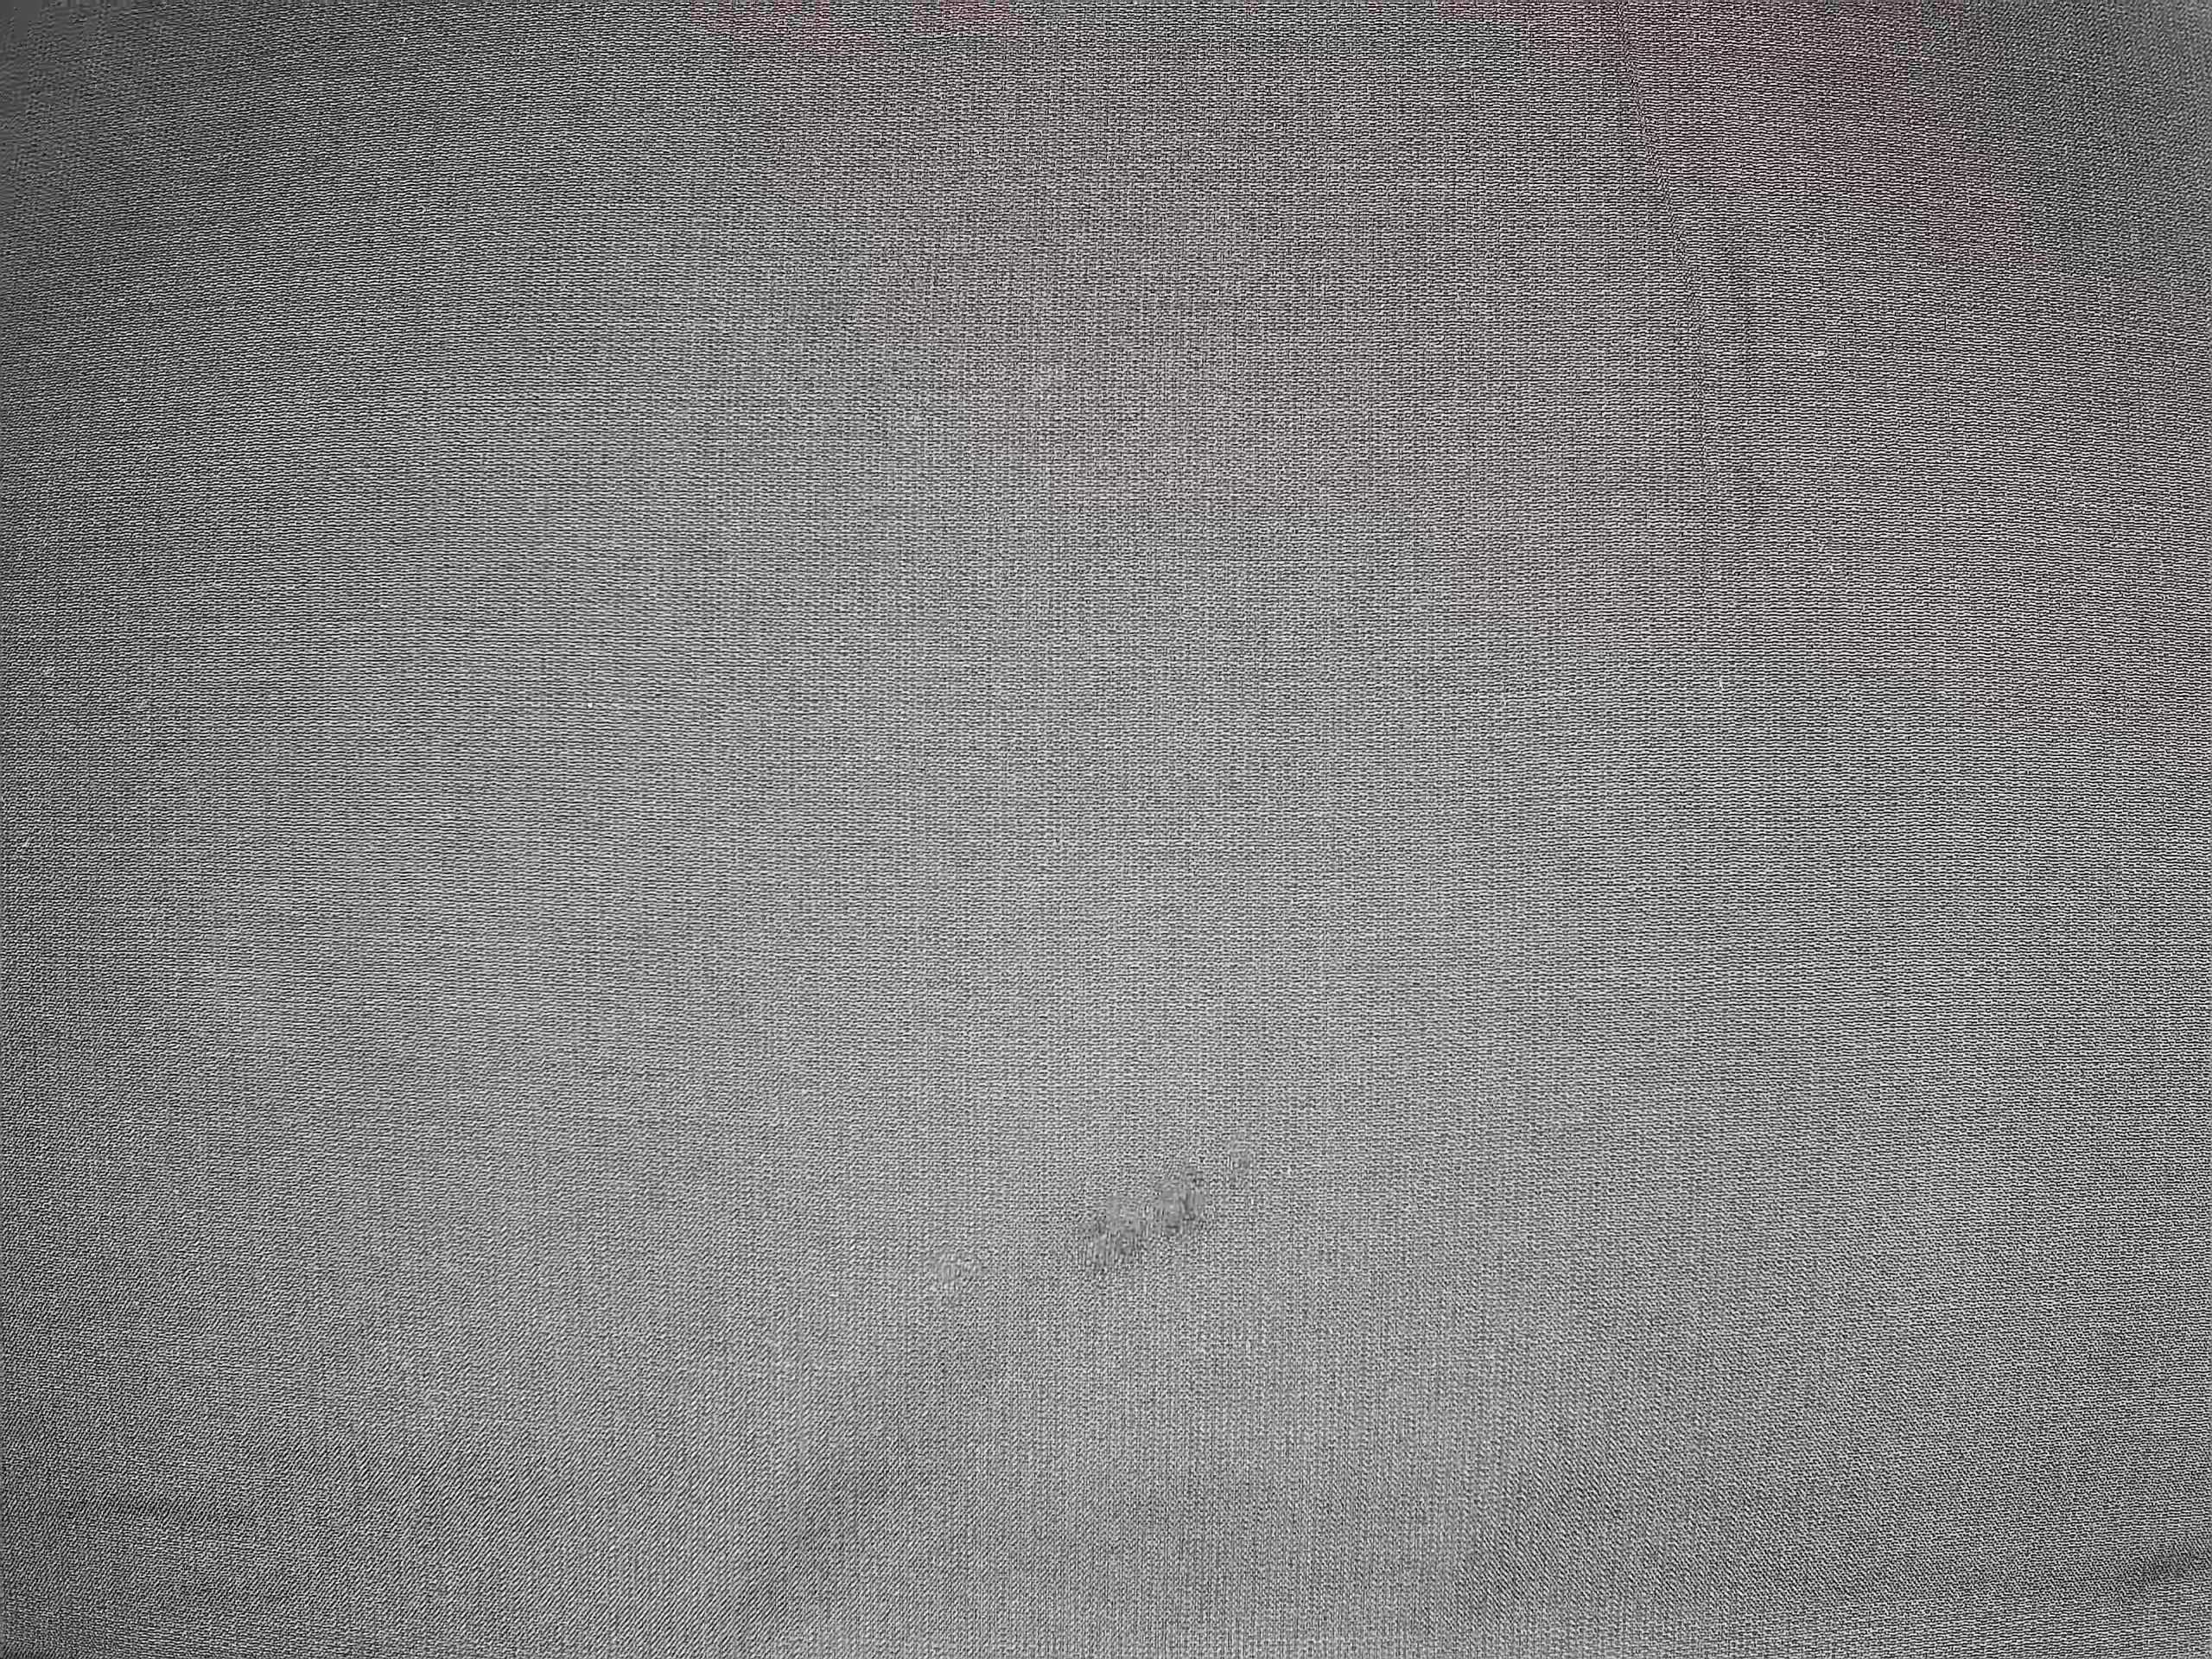rubbing-hole: (1049, 1140, 1266, 1307)
